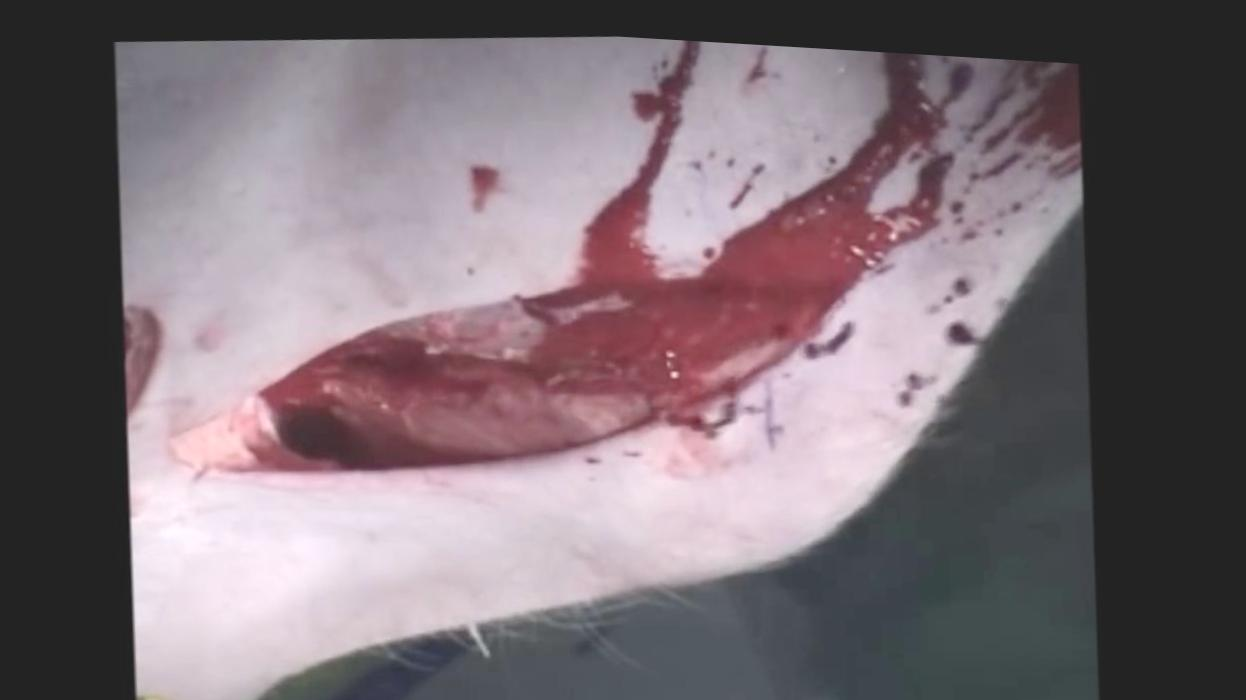Fire: (171, 32, 1082, 484), (674, 33, 827, 259), (471, 159, 502, 207)
